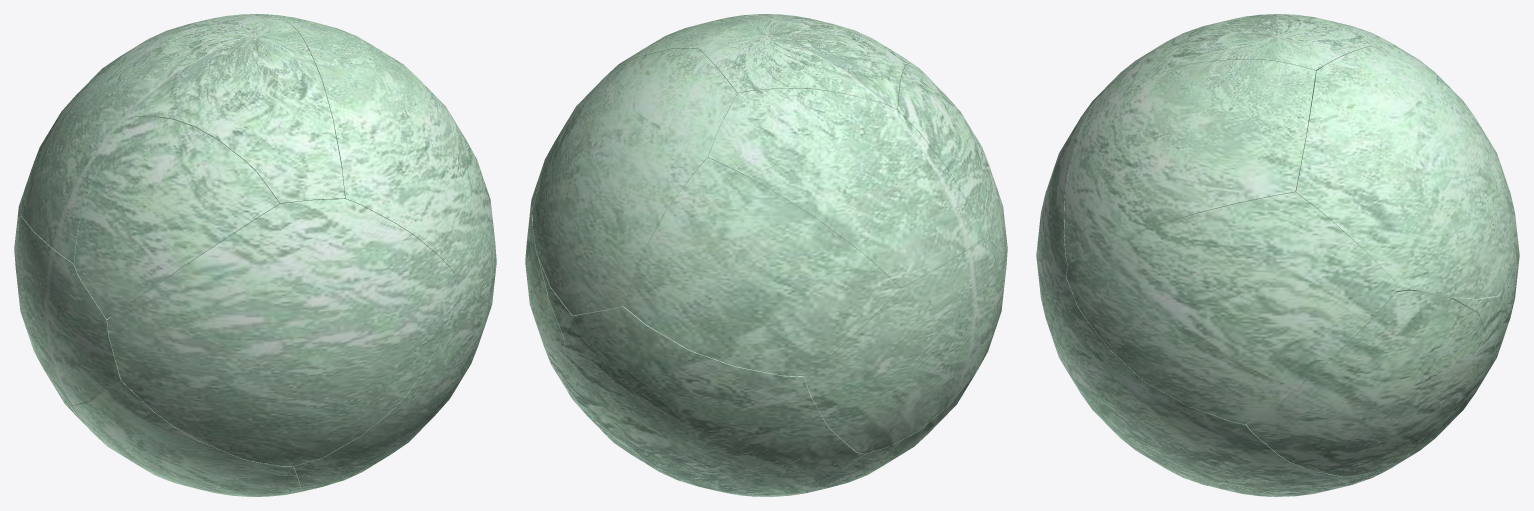
The model's file is IceBallFracture.fbx.
3 renders of one model, left to right at view 1: azimuth 30°, elevation 25°; view 2: azimuth 150°, elevation 25°; view 3: azimuth 270°, elevation 25°, orthographic.
Visible parts, largest first — view 1: IceBall_cell.004, IceBall_cell.012, IceBall_cell.017, IceBall_cell.024, IceBall_cell.022, IceBall_cell.020, IceBall_cell.001, IceBall_cell.021, IceBall_cell.015, IceBall_cell.016; view 2: IceBall_cell, IceBall_cell.025, IceBall_cell.016, IceBall_cell.022, IceBall_cell.020, IceBall_cell.012, IceBall_cell.017, IceBall_cell.005, IceBall_cell.001, IceBall_cell.024, IceBall_cell.009; view 3: IceBall_cell.015, IceBall_cell.016, IceBall_cell.024, IceBall_cell.005, IceBall_cell.021, IceBall_cell.012, IceBall_cell.004, IceBall_cell.025, IceBall_cell, IceBall_cell.022, IceBall_cell.009.
Part boxes in pixels (left/top/right/bottom): IceBall_cell.004: left=107, top=199, right=455, bottom=466; IceBall_cell.012: left=134, top=18, right=344, bottom=207; IceBall_cell.017: left=74, top=116, right=279, bottom=318; IceBall_cell.024: left=286, top=20, right=470, bottom=272; IceBall_cell.022: left=22, top=25, right=189, bottom=263; IceBall_cell.020: left=14, top=216, right=120, bottom=405; IceBall_cell.001: left=64, top=380, right=300, bottom=496; IceBall_cell.021: left=293, top=287, right=491, bottom=491; IceBall_cell.015: left=437, top=98, right=496, bottom=306; IceBall_cell.016: left=173, top=14, right=350, bottom=33; IceBall_cell: left=623, top=158, right=900, bottom=376; IceBall_cell.025: left=564, top=306, right=863, bottom=495; IceBall_cell.016: left=532, top=48, right=737, bottom=315; IceBall_cell.022: left=708, top=88, right=983, bottom=287; IceBall_cell.020: left=804, top=238, right=1006, bottom=453; IceBall_cell.012: left=699, top=15, right=911, bottom=109; IceBall_cell.017: left=898, top=63, right=1004, bottom=254; IceBall_cell.005: left=525, top=208, right=583, bottom=411; IceBall_cell.001: left=752, top=323, right=997, bottom=496; IceBall_cell.024: left=610, top=14, right=787, bottom=72; IceBall_cell.009: left=531, top=201, right=573, bottom=338; IceBall_cell.015: left=1066, top=192, right=1395, bottom=424; IceBall_cell.016: left=1295, top=46, right=1513, bottom=298; IceBall_cell.024: left=1064, top=59, right=1315, bottom=264; IceBall_cell.005: left=1246, top=290, right=1486, bottom=476; IceBall_cell.021: left=1052, top=278, right=1388, bottom=496; IceBall_cell.012: left=1085, top=14, right=1370, bottom=121; IceBall_cell.004: left=1036, top=93, right=1100, bottom=341; IceBall_cell.025: left=1377, top=237, right=1519, bottom=475; IceBall_cell: left=1437, top=75, right=1517, bottom=238; IceBall_cell.022: left=1331, top=21, right=1437, bottom=82; IceBall_cell.009: left=1394, top=282, right=1498, bottom=334.
Size of the model in its own units: 200 by 200 by 200.
